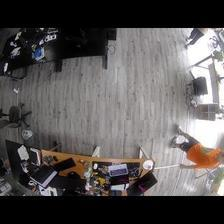normal: (168, 122, 224, 173)
